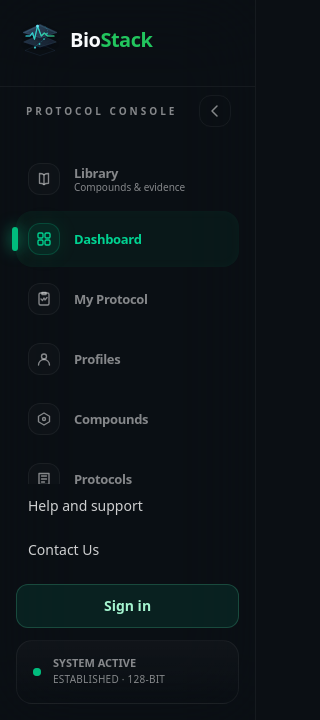
Test case: Sidebar desktop collapse › toggles collapse state and persists the choice to localStorage
Click the button named "Collapse sidebar" at (215, 111), box [199,95,231,127]
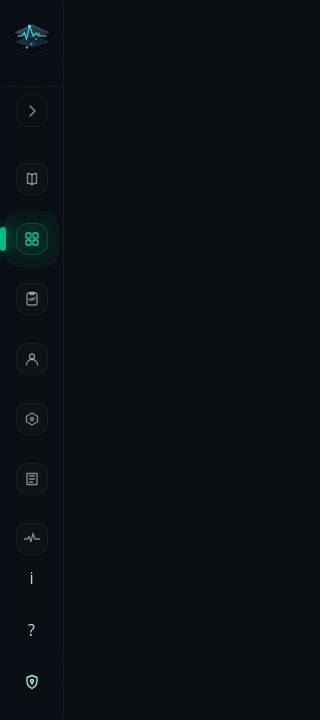
Expected: the button named "Expand sidebar" is shown
Click the button named "Expand sidebar" at (32, 111), box [16,95,48,127]
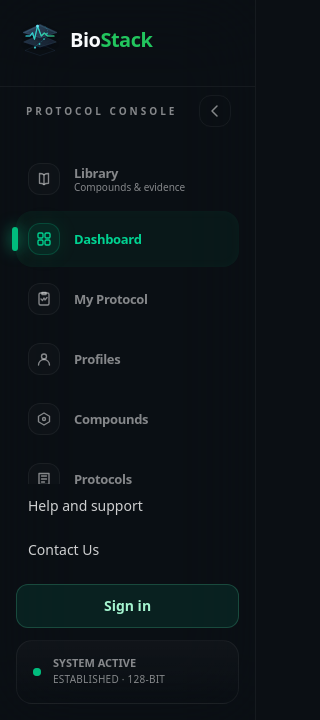
Expected: the button named "Collapse sidebar" is shown, [199,95,231,127]
